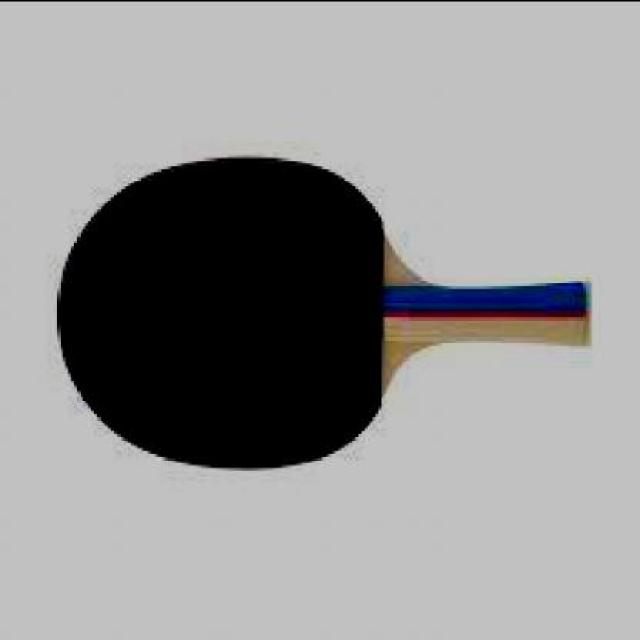table_tennis_racket: (54, 153, 408, 479)
